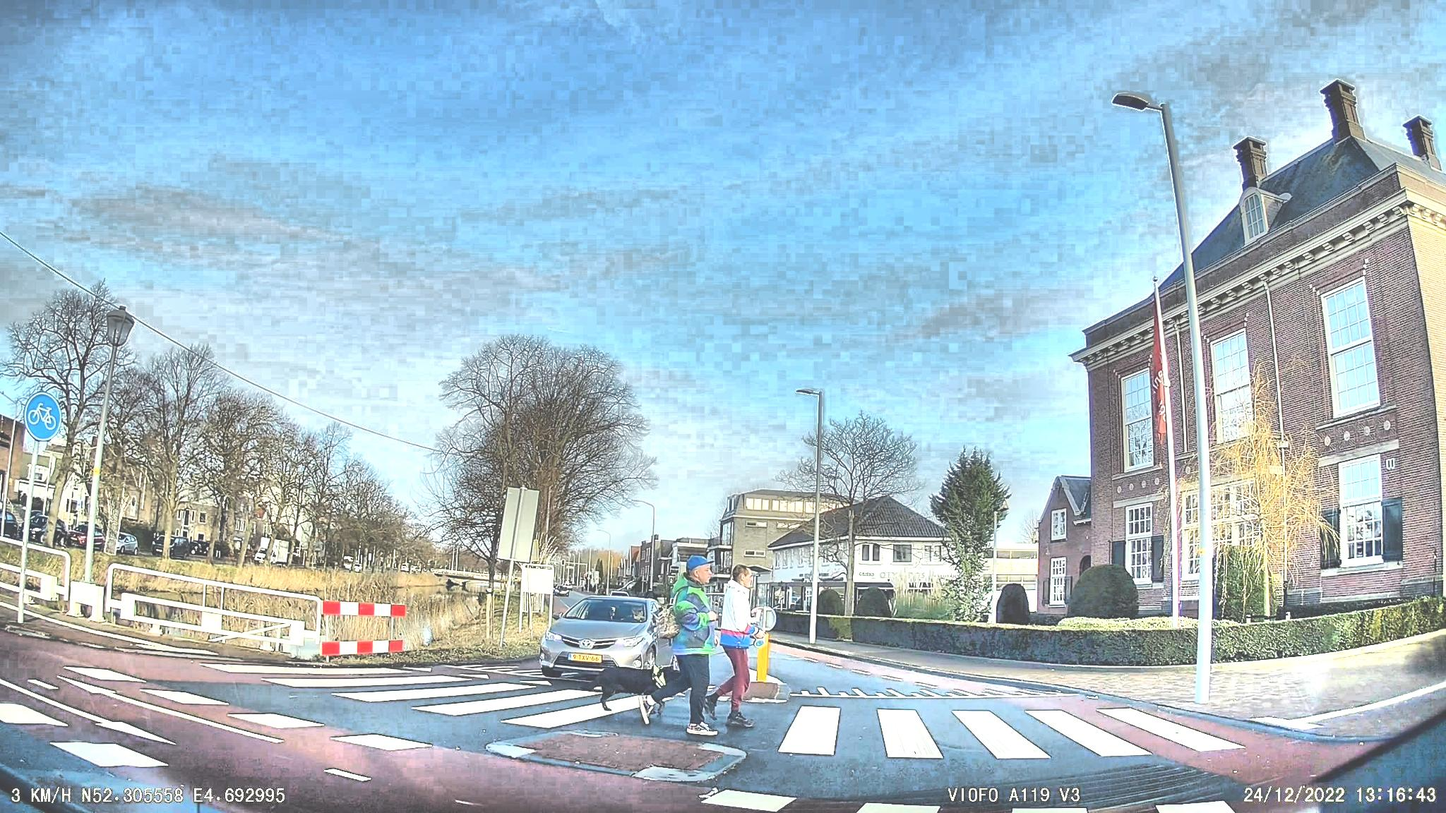Roads: (0, 634, 1361, 813)
